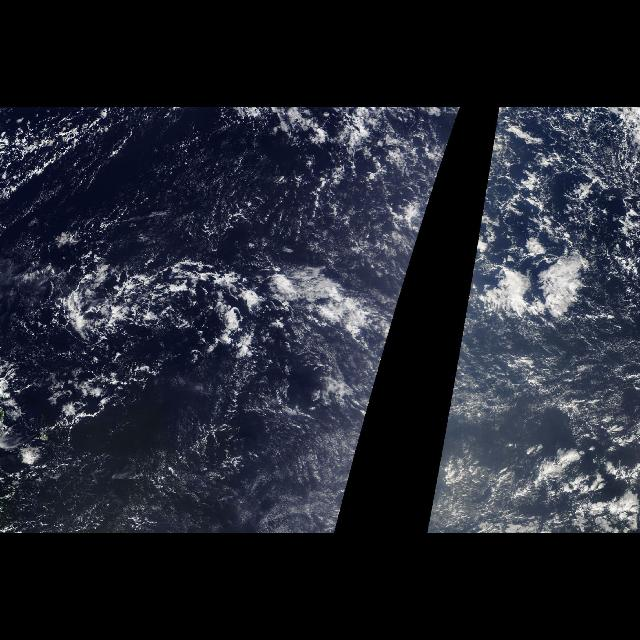Gravel: (14, 250, 252, 452), (476, 108, 608, 242), (331, 108, 461, 242)
Sugar: (172, 132, 454, 274), (160, 389, 372, 531), (473, 132, 634, 250)
